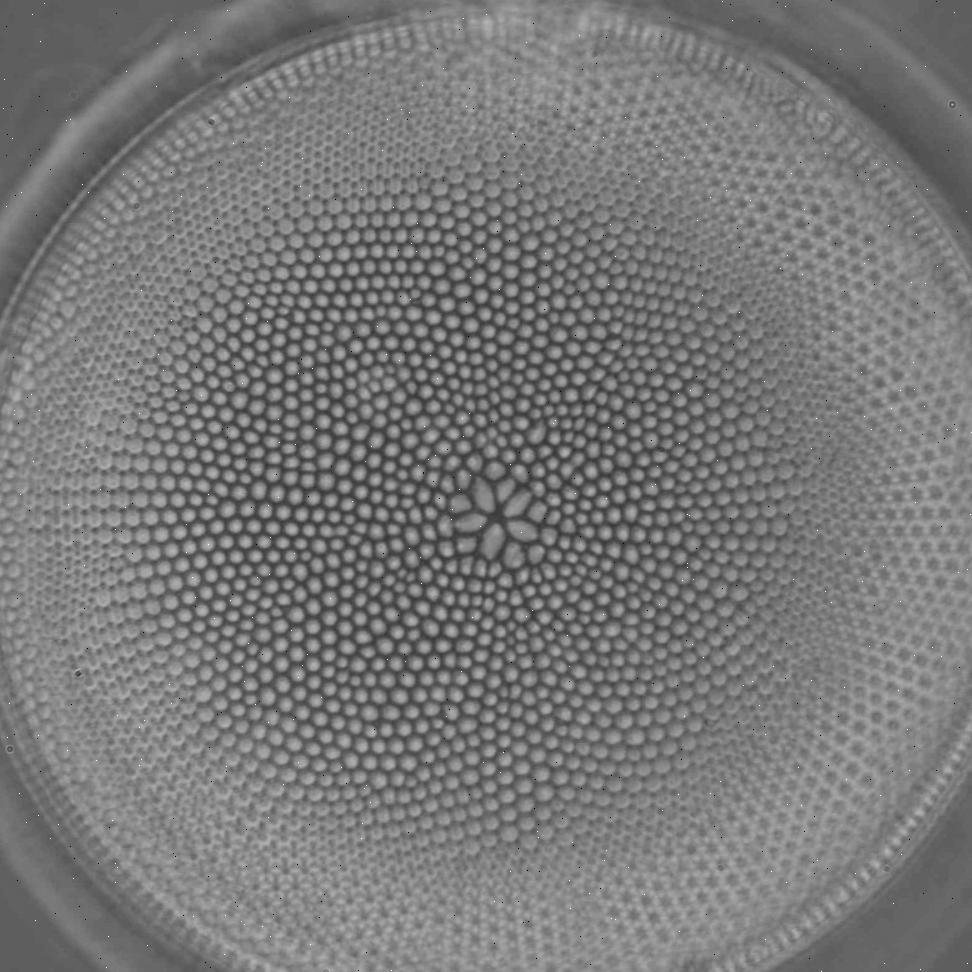coscinodiscus_oculus_iridis: (0, 5, 972, 972)
